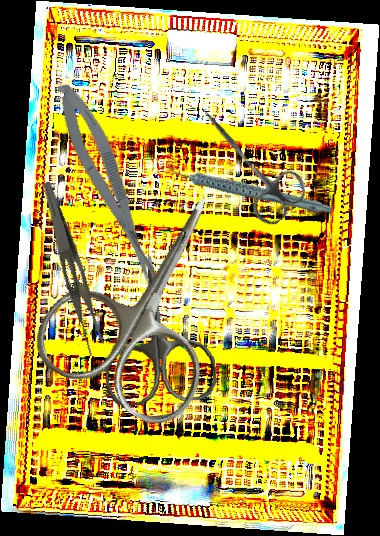Dressing Forceps: (23, 180, 115, 358)
Handpiece: (164, 130, 335, 246)
Iris Scissors: (22, 158, 281, 437), (95, 251, 219, 408), (181, 93, 314, 231)
Micro Scissor: (48, 76, 170, 297)
